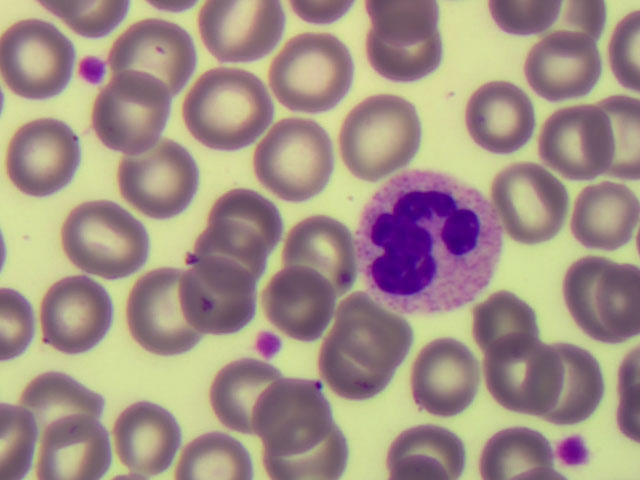Platelets: (560, 437, 589, 464), (257, 335, 284, 360), (80, 53, 103, 80)
RBC: (532, 345, 610, 429), (483, 336, 562, 414), (257, 119, 330, 203), (189, 74, 270, 148), (64, 204, 144, 278), (257, 382, 337, 456), (174, 260, 255, 333), (122, 137, 197, 215), (343, 95, 418, 173), (131, 268, 202, 350), (335, 297, 411, 372), (410, 336, 481, 416), (21, 376, 102, 446), (570, 250, 629, 346), (502, 160, 567, 246), (9, 121, 84, 194), (113, 28, 192, 97), (317, 325, 392, 397), (272, 42, 355, 107), (543, 106, 616, 179), (96, 81, 171, 151), (1, 21, 77, 90), (263, 420, 350, 480), (467, 78, 532, 158), (469, 295, 542, 366), (207, 364, 281, 434), (365, 23, 443, 89), (43, 280, 113, 353), (522, 38, 605, 99), (32, 416, 111, 480), (286, 218, 354, 291), (381, 424, 465, 480), (573, 178, 637, 250), (113, 402, 182, 468), (262, 269, 332, 334), (584, 98, 640, 177), (198, 1, 278, 56), (194, 226, 258, 291), (213, 191, 279, 254), (482, 429, 549, 480), (181, 434, 255, 480), (592, 265, 640, 335), (366, 1, 443, 43), (544, 1, 602, 52), (2, 403, 40, 480), (1, 288, 31, 362), (611, 13, 640, 89), (489, 1, 555, 34), (615, 363, 640, 450), (66, 1, 121, 40), (289, 1, 350, 27), (40, 1, 97, 24)
WBC: (359, 174, 493, 313)
